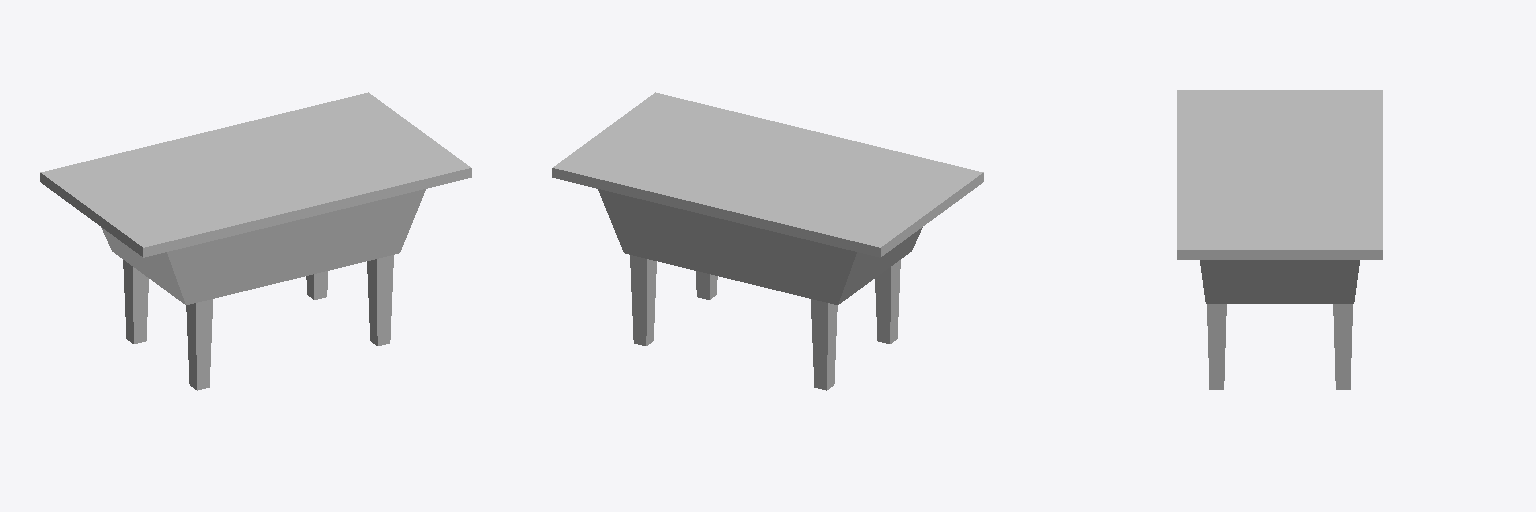
Rendered from WR_Desk2.obj.
3 views of the same model, side by side, from view 1: azimuth 30°, elevation 25°; view 2: azimuth 150°, elevation 25°; view 3: azimuth 270°, elevation 25° (orthographic).
Parts seen in each view (by area): view 1: DeskTop, DeskChamber, Leg1, Leg4, Leg2; view 2: DeskTop, DeskChamber, Leg2, Leg3, Leg1; view 3: DeskTop, DeskChamber, Leg3, Leg4.
Boxes of the visible parts, <box> form: DeskTop: <box>40,92,471,257</box>; DeskChamber: <box>101,189,425,304</box>; Leg1: <box>186,299,212,390</box>; Leg4: <box>367,255,393,345</box>; Leg2: <box>123,260,148,343</box>; DeskTop: <box>552,92,983,257</box>; DeskChamber: <box>598,189,922,304</box>; Leg2: <box>811,299,837,390</box>; Leg3: <box>630,255,656,345</box>; Leg1: <box>875,260,900,343</box>; DeskTop: <box>1177,90,1382,259</box>; DeskChamber: <box>1200,260,1359,303</box>; Leg3: <box>1333,304,1352,389</box>; Leg4: <box>1207,304,1226,389</box>.
Size of the model in its own units: 17.25 by 8.62 by 9.38.